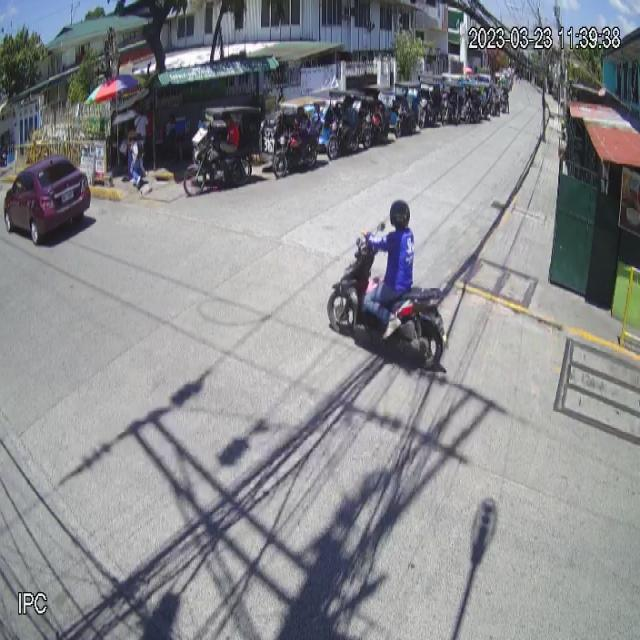Car: (3, 154, 92, 250)
Motorcycle: (326, 220, 450, 373)
